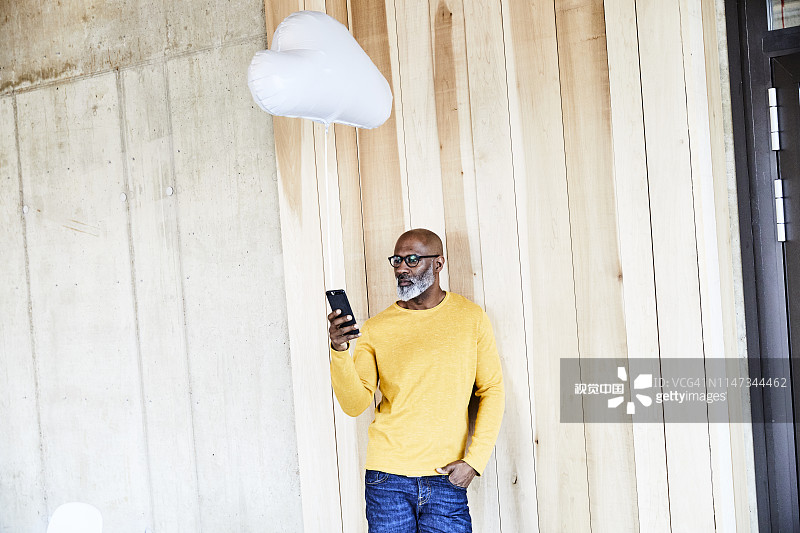reading: (315, 279, 362, 356)
